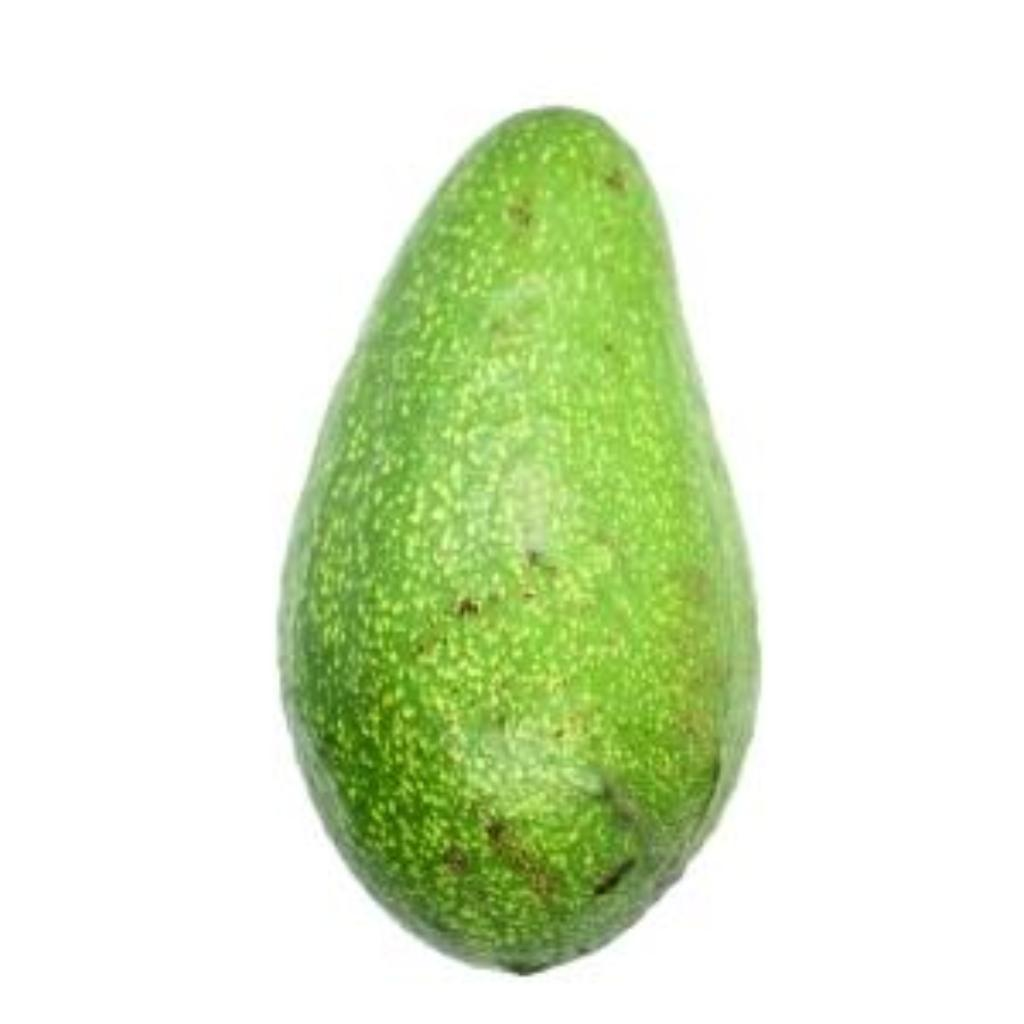cercospora_spot: (254, 101, 774, 995)
